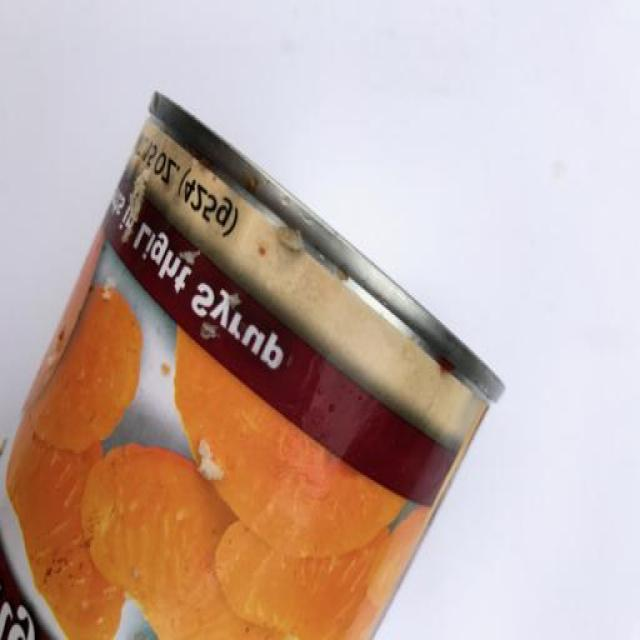Metal: (0, 93, 508, 640)
